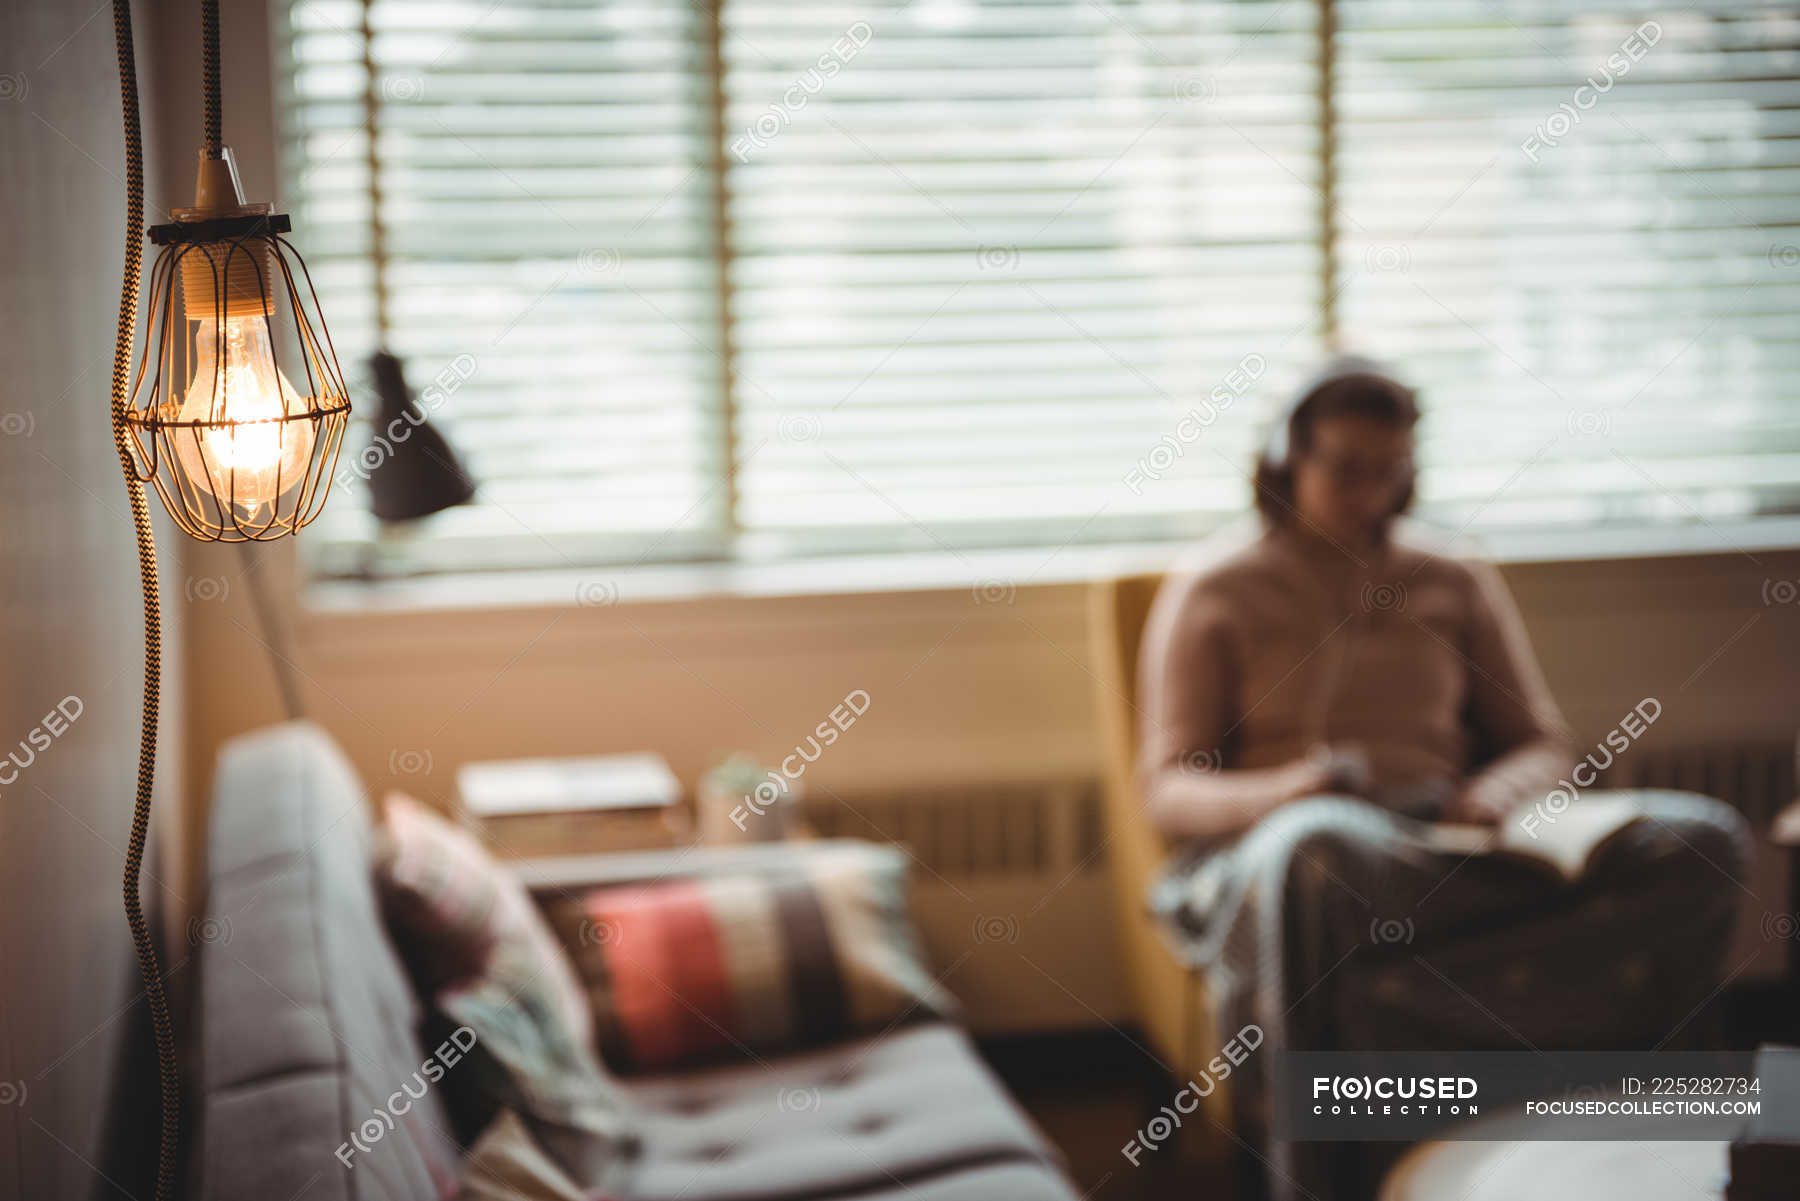bulb: (162, 240, 331, 558)
